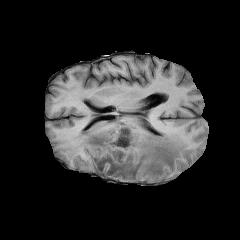glioma: (66, 118, 188, 179)
